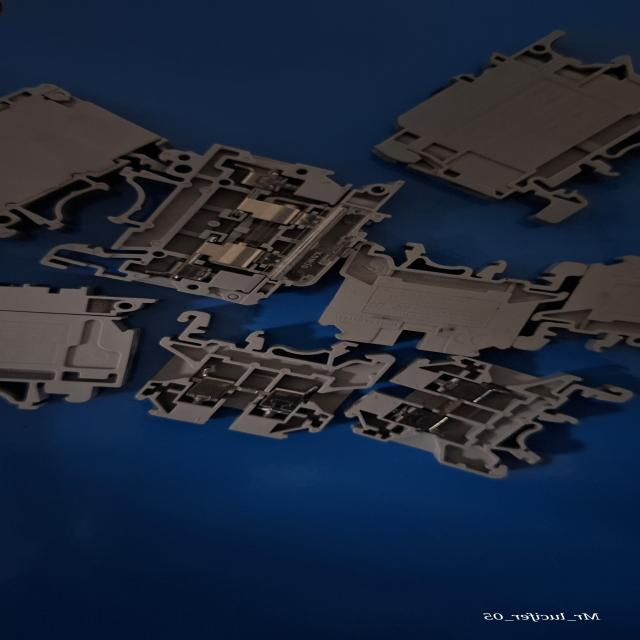Pass: (346, 352, 640, 480), (132, 306, 376, 456)
